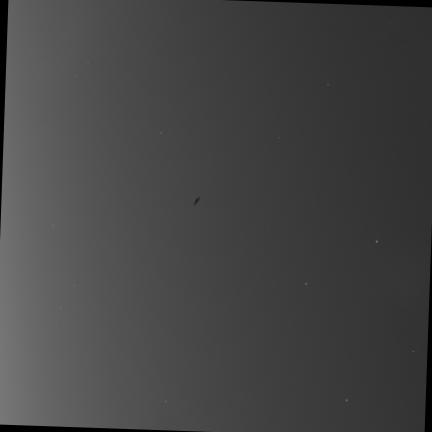Shahed: (195, 198, 199, 205)
